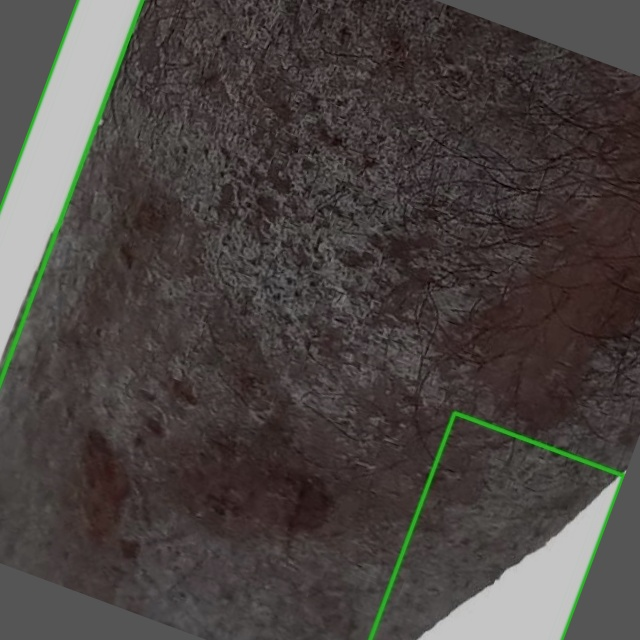Contact Dermatitis: (370, 412, 623, 639)
